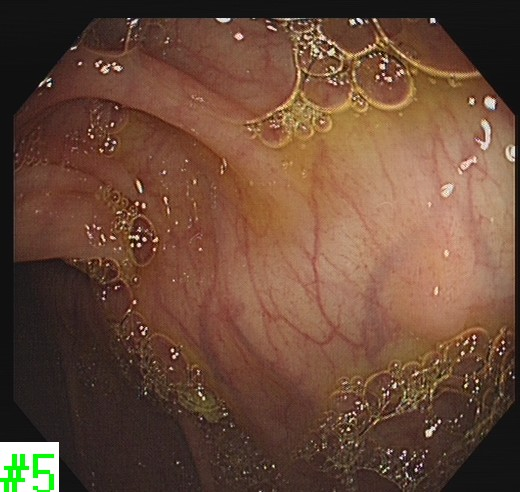adenoma: (381, 229, 499, 341)
